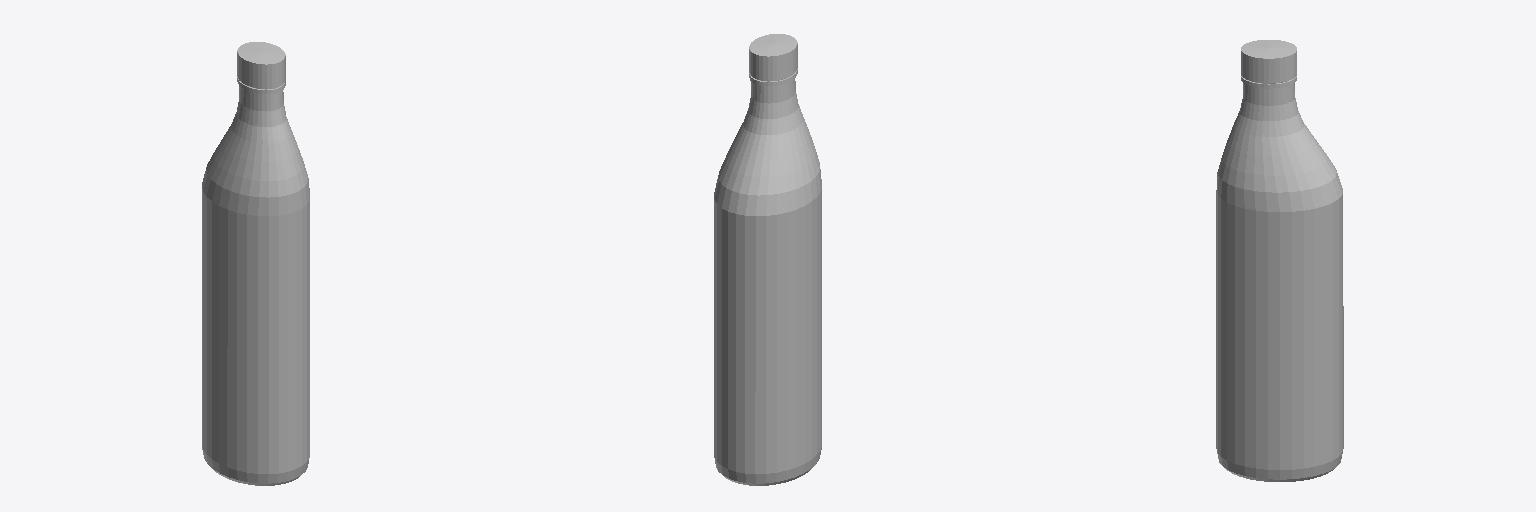
File: bottle1.obj
3 views of the same model, side by side, from view 1: azimuth 30°, elevation 25°; view 2: azimuth 150°, elevation 25°; view 3: azimuth 270°, elevation 25° (orthographic).
Parts seen in each view (by area): view 1: bottle1; view 2: bottle1; view 3: bottle1.
Boxes of the visible parts, x1=… form: bottle1: x1=202, y1=42, x2=309, y2=485; bottle1: x1=714, y1=34, x2=821, y2=485; bottle1: x1=1216, y1=40, x2=1343, y2=481.
Bounding box in the file's own units: 0.1 × 0.4507 × 0.125.